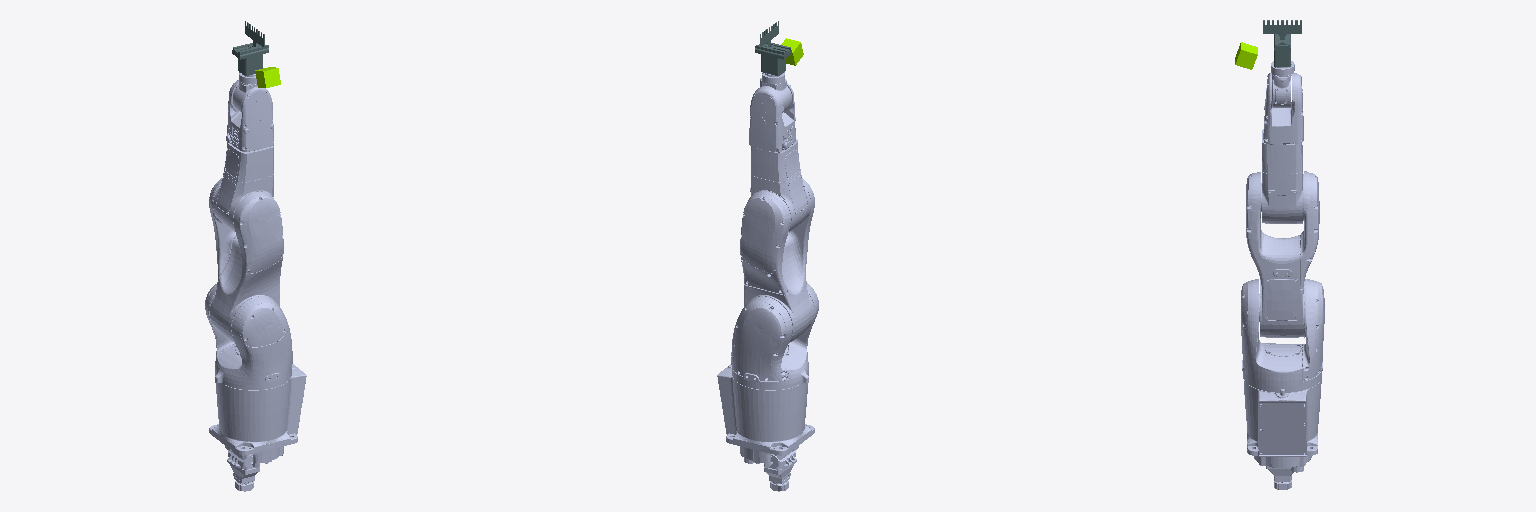
The robot description file, URDF, robot "vs068":
<?xml version="1.0" encoding="UTF-8"?>
<robot name="vs068">
        <material name="white">
                <color rgba="1.0 1.0 1.0 1.0" />
        </material>
        <material name="blue">
                <color rgba="0.0 0.0 1.0 0.7" />
        </material>
        <material name="yellow">
                <color rgba="0.7 1 0 0.3" />
                <ambient>0.5 0.75 0 1</ambient>
                <diffuse>0.7 0.9 0 1</diffuse>
                <specular>0.2 0.2 0.2 64</specular>
                <emissive>0.1 0 0.1 1</emissive>
        </material>
        <material name="denso_white">
                <color rgba="0.792156862745098 0.819607843137255 0.933333333333333 1" />
        </material>
        <material name="gripper_grey">
                <color rgba="0.411 0.498 0.514 1.0" />
        </material>

        <link name="world" />
        <joint name="world_to_base" type="fixed">
                <origin rpy="0 0 0" xyz="0 0 0" />
                <parent link="world" />
                <child link="base_box" />
        </joint>
        <link name="base_box">
        <inertial>
                <origin xyz="0 0 0" rpy="0 0 0" />
                <mass value="10" />
                <inertia ixx="1" ixy="0" ixz="0"
                        iyy="1" iyz="0" izz="1" />
        </inertial>
        <visual>
                <geometry>
                        <mesh filename="meshes/base_box.stl" scale="0.001 0.001 0.001" />
                </geometry>
                <material name="blue" /> 
        </visual>
        <collision>
                <geometry>
                        <mesh filename="meshes/base_box.stl" scale="0.001 0.001 0.001" />
                </geometry>
        </collision>
        </link>
        <joint name="base" type="fixed">
                <origin xyz="0 0 0.156" rpy="0 0 -1.5708" />
                <parent link="base_box" />
                <child link="base_link" />
        </joint>

        <link name="base_link">
        <inertial>
                <origin xyz="-0.000122727607279245 0.0789983817650448 -0.00825987553772271" rpy="0 0 0" />
                <mass value="8.63141697865396" />
                <inertia ixx="0.0762856758006792" ixy="-0.000145476887151232" ixz="-3.43485895969659E-05"
                        iyy="0.0505813655959526" iyz="0.00390971667280202" izz="0.0695322443973483" />
        </inertial>
        <visual>
                <origin xyz="0 0 0" rpy="0 0 0" />
                <geometry>
                        <mesh filename="meshes/base_link.STL" />
                </geometry>
                <material name="denso_white" />
        </visual>
        <collision>
                <origin xyz="0 0 0" rpy="0 0 0" />
                <geometry>
                        <mesh filename="meshes/base_link.STL" />
                </geometry>
        </collision>
        </link>
        <link name="link1">
        <inertial>
                <origin xyz="0.0055746 -0.001764 0.09429" rpy="0 0 0" />
                <mass value="5.5592" />
                <inertia ixx="0.060877" ixy="0.00032656" ixz="-0.0046825" iyy="0.045959" iyz="0.0013857"
                        izz="0.042419" />
        </inertial>
        <visual>
                <origin xyz="0 0 0" rpy="0 0 0" />
                <geometry>
                        <mesh filename="meshes/link1.STL" />
                </geometry>
                <material name="denso_white" />
        </visual>
        <collision>
                <origin xyz="0 0 0" rpy="0 0 0" />
                <geometry>
                        <mesh filename="meshes/link1.STL" />
                </geometry>
        </collision>
        </link>
        <joint name="joint0_1" type="revolute">
                <origin xyz="0 0 0.1975" rpy="0 0 -1.5708" />
                <parent link="base_link" />
                <child link="link1" />
                <axis xyz="0 0 1" />
                <limit lower="-2.9671" upper="2.9671" effort="100000" velocity="6.2134" />
        </joint>
        <link name="link2">
        <inertial>
                <origin xyz="-0.011100059776704 -0.122130805741436 -0.0673277210119841" rpy="0 0 0" />
                <mass value="7.47241921119094" />
                <inertia ixx="0.141800415914062" ixy="-0.0032161354971075" ixz="0.000123151587563144"
                        iyy="0.0348536924803676" iyz="-0.00301516838757327" izz="0.13211646459445" />
        </inertial>
        <visual>
                <origin xyz="0 0 0" rpy="0 0 0" />
                <geometry>
                        <mesh filename="meshes/link2.STL" />
                </geometry>
                <material name="denso_white" />
        </visual>
        <collision>
                <origin xyz="0 0 0" rpy="0 0 0" />
                <geometry>
                        <mesh filename="meshes/link2.STL" />
                </geometry>
        </collision>
        </link>
        <joint name="joint1_2" type="revolute">
                <origin xyz="0.03 0.066 0.1975" rpy="-1.5708 0 0" />
                <parent link="link1" />
                <child link="link2" />
                <axis xyz="0 0 1" />
                <limit lower="-1.74533" upper="2.35619" effort="100000" velocity="5.28835" />
        </joint>
        <link name="link3">
        <inertial>
                <origin xyz="-0.0491224376803171 0.00617030276793995 -0.0613766364747311" rpy="0 0 0" />
                <mass value="3.98629951386676" />
                <inertia ixx="0.0111044632685743" ixy="0.00172841378567076" ixz="0.000292617829389277"
                        iyy="0.0252227763988427" iyz="-2.9724659354712E-05" izz="0.0248859392267326" />
        </inertial>
        <visual>
                <origin xyz="0 0 0" rpy="0 0 0" />
                <geometry>
                        <mesh filename="meshes/link3.STL" />
                </geometry>
                <material name="denso_white" />
        </visual>
        <collision>
                <origin xyz="0 0 0" rpy="0 0 0" />
                <geometry>
                        <mesh filename="meshes/link3.STL" />
                </geometry>
        </collision>
        </link>
        <joint name="joint2_3" type="revolute">
                <origin xyz="0 -0.34 -0.0045" rpy="0 0 1.5707" />
                <parent link="link2" />
                <child link="link3" />
                <axis xyz="0 0 1" />
                <limit lower="-2.0944" upper="2.6529" effort="100000" velocity="6.59734" />
        </joint>
        <link name="link4">
        <inertial>
                <origin xyz="0.00618070367513479 -0.000798886212659555 0.0583205826414259" rpy="0 0 0" />
                <mass value="1.46492735699401" />
                <inertia ixx="0.00499424774512178" ixy="-1.10912544455978E-06" ixz="-0.000400807159125505"
                        iyy="0.00536125112345585" iyz="-1.74738698992761E-05" izz="0.00266834051341128" />
        </inertial>
        <visual>
                <origin xyz="0 0 0" rpy="0 0 0" />
                <geometry>
                        <mesh filename="meshes/link4.STL" />
                </geometry>
                <material name="denso_white" />
        </visual>
        <collision>
                <origin xyz="0 0 0" rpy="0 0 0" />
                <geometry>
                        <mesh filename="meshes/link4.STL" />
                </geometry>
        </collision>
        </link>
        <joint name="joint3_4" type="revolute">
                <origin xyz="-0.197 0.02 -0.0615" rpy="3.1416 1.5708 0" />
                <parent link="link3" />
                <child link="link4" />
                <axis xyz="0 0 1" />
                <limit lower="-4.71239" upper="4.71239" effort="100000" velocity="8.29031" />
        </joint>
        <link name="link5">
        <inertial>
                <origin xyz="-0.0150943182068006 -0.000432785856204654 0.0258772243615742" rpy="0 0 0" />
                <mass value="0.519102318342428" />
                <inertia ixx="0.000377482868071637" ixy="-7.5490296090654E-06" ixz="2.45004206117579E-05"
                        iyy="0.000778804437226065" iyz="1.1497851036214E-06" izz="0.000888284142908022" />
        </inertial>
        <visual>
                <origin xyz="0 0 0" rpy="0 0 0" />
                <geometry>
                        <mesh filename="meshes/link5.STL" />
                </geometry>
                <material name="denso_white" />
        </visual>
        <collision>
                <origin xyz="0 0 0" rpy="0 0 0" />
                <geometry>
                        <mesh filename="meshes/link5.STL" />
                </geometry>
        </collision>
        </link>
        <joint name="joint4_5" type="revolute">
                <origin xyz="-0.0295 0 0.143" rpy="0 1.5708 0" />
                <parent link="link4" />
                <child link="link5" />
                <axis xyz="0 0 1" />
                <limit lower="-2.0944" upper="2.0944" effort="100000" velocity="8.25541" />
        </joint>


        <joint name="joint5_eef" type="revolute">
                <origin xyz="-0.085 -0.0005 0.029" rpy="1.571 3.141 -1.571" />
                <parent link="link5" />
                <child link="end_effector" />
                <axis xyz="0 0 1" />
                <limit lower="-6.283" upper="6.283" effort="100000" velocity="12.566" />
        </joint>

        <link name="end_effector">
        <inertial>
                <origin xyz="5.5447393612675E-18 -4.56574706561055E-18 0.040472762765948" rpy="0 0 0" />
                <mass value="0.229374149544977" />
                <inertia ixx="0.000152792509895407" ixy="-1.32233353659445E-20" ixz="2.99173912945335E-20"
                        iyy="0.000215355282105043" iyz="4.24192387605052E-21" izz="0.000142454408200763" />
        </inertial>
        <visual>
                <origin xyz="0 0 0" rpy="0 0 0" />
                <geometry>
                        <mesh filename="meshes/base_gripper.STL" />
                </geometry>
                <material name="gripper_grey" />
        </visual>
        <collision>
                <origin xyz="0 0 0" rpy="0 0 0" />
                <geometry>
                        <mesh filename="meshes/base_gripper.STL" />
                </geometry>
        </collision>
        </link>

        <link name="end_effector_palm_dummy">
        <inertial>
                <origin xyz="0 0 0" rpy="0 0 0" />
                <mass value="0" />
                <inertia ixx="1" ixy="0" ixz="0"
                        iyy="1" iyz="0" izz="1" />
        </inertial>
        </link>
        <joint name="eef_palm" type="fixed">
                <origin xyz="0 0 0.09" rpy="0 0 1.571" />
                <parent link="end_effector" />
                <child link="end_effector_palm_dummy" />
        </joint>

        <link name="finger_1">
        <inertial>
                <origin xyz="-0.0181840208861592 -8.36291538269603E-08 0.00832378206907532" rpy="0 0 0" />
                <mass value="0.00384042455523011" />
                <inertia ixx="6.63496508527019E-07" ixy="7.76820115278585E-13" ixz="-1.19049632231028E-07"
                        iyy="8.15651137637604E-07" iyz="1.02943506944988E-11" izz="5.34556227349764E-07" />
        </inertial>
        <visual>
                <origin xyz="0 0 0" rpy="0 0 0" />
                <geometry>
                        <mesh filename="meshes/finger_1.STL" />
                </geometry>
                <material name="gripper_grey" />
        </visual>
        <collision>
                <origin xyz="0 0 0" rpy="0 0 0" />
                <geometry>
                        <mesh filename="meshes/finger_1.STL" />
                </geometry>
        </collision>
        </link>
        <joint name="base_finger_1" type="prismatic">
                <origin xyz="0 0 0.072801" rpy="0 0 0" />
                <parent link="end_effector" />
                <child link="finger_1" />
                <axis xyz="-1 0 0" />
                <limit lower="0" upper="0.14" effort="100000" velocity="0.001" />
        </joint>
        <link name="finger_2">
        <inertial>
                <origin xyz="0.0181840208861592 8.36291538299396E-08 0.00832378206907529" rpy="0 0 0" />
                <mass value="0.00384042455523011" />
                <inertia ixx="6.63496508527017E-07" ixy="7.76820115307182E-13" ixz="1.19049632231027E-07"
                        iyy="8.15651137637603E-07" iyz="-1.02943506945105E-11" izz="5.34556227349765E-07" />
        </inertial>
        <visual>
                <origin xyz="0 0 0" rpy="0 0 0" />
                <geometry>
                        <mesh filename="meshes/finger_2.STL" />
                </geometry>
                <material name="gripper_grey" />
        </visual>
        <collision>
                <origin xyz="0 0 0" rpy="0 0 0" />
                <geometry>
                        <mesh filename="meshes/finger_2.STL" />
                </geometry>
        </collision>
        </link>
        <joint name="base_finger_2" type="prismatic">
                <origin xyz="0 0 0.072801" rpy="0 0 3.14159265359" />
                <parent link="end_effector" />
                <child link="finger_2" />
                <axis xyz="-1 0 0" />
                <limit lower="0" upper="0.14" effort="100000" velocity="0.001" />
                <mimic joint="base_finger_1" multiplier="1" offset="0" />
        </joint>

        <joint name="camera_joint" type="fixed">
                <origin xyz="0 0.1 0.02" rpy="0 -1.9 1.5707" />
                <parent link="end_effector" />
                <child link="camera_link" />
        </joint>
        
        <link name="camera_link">
                <origin xyz="0 0 0" rpy="0 0 0" />
                
                <visual name="visual_cam">
                <origin xyz="0 0 0" rpy="0 0 0" />
                <geometry>
                        <box size="0.05 0.05 0.05" />
                </geometry>
                <material name="yellow" />
                </visual>

                <inertial>
                        <origin xyz="0 0 0" rpy="0 0 0" />
                        <mass value="0" />
                        <inertia ixx="1" ixy="0" ixz="0"
                                iyy="1" iyz="0" izz="1" />
                </inertial>
        </link>cam


        <transmission name="trans_joint0_1">
                <type>transmission_interface/SimpleTransmission</type>
                <joint name="joint0_1">
                        <hardwareInterface>hardware_interface/EffortJointInterface</hardwareInterface>
                </joint>
                <actuator name="joint0_1_motor">
                        <hardwareInterface>hardware_interface/EffortJointInterface</hardwareInterface>
                        <mechanicalReduction>1</mechanicalReduction>
                </actuator>
        </transmission>
        <transmission name="trans_joint1_2">
                <type>transmission_interface/SimpleTransmission</type>
                <joint name="joint1_2">
                        <hardwareInterface>hardware_interface/EffortJointInterface</hardwareInterface>
                </joint>
                <actuator name="joint1_2_motor">
                        <hardwareInterface>hardware_interface/EffortJointInterface</hardwareInterface>
                        <mechanicalReduction>1</mechanicalReduction>
                </actuator>
        </transmission>
        <transmission name="trans_joint2_3">
                <type>transmission_interface/SimpleTransmission</type>
                <joint name="joint2_3">
                        <hardwareInterface>hardware_interface/EffortJointInterface</hardwareInterface>
                </joint>
                <actuator name="joint2_3_motor">
                        <hardwareInterface>hardware_interface/EffortJointInterface</hardwareInterface>
                        <mechanicalReduction>1</mechanicalReduction>
                </actuator>
        </transmission>
        <transmission name="trans_joint3_4">
                <type>transmission_interface/SimpleTransmission</type>
                <joint name="joint3_4">
                        <hardwareInterface>hardware_interface/EffortJointInterface</hardwareInterface>
                </joint>
                <actuator name="joint3_4_motor">
                        <hardwareInterface>hardware_interface/EffortJointInterface</hardwareInterface>
                        <mechanicalReduction>1</mechanicalReduction>
                </actuator>
        </transmission>
        <transmission name="trans_joint4_5">
                <type>transmission_interface/SimpleTransmission</type>
                <joint name="joint4_5">
                        <hardwareInterface>hardware_interface/EffortJointInterface</hardwareInterface>
                </joint>
                <actuator name="joint4_5_motor">
                        <hardwareInterface>hardware_interface/EffortJointInterface</hardwareInterface>
                        <mechanicalReduction>1</mechanicalReduction>
                </actuator>
        </transmission>
        <transmission name="trans_joint5_eef">
                <type>transmission_interface/SimpleTransmission</type>
                <joint name="joint5_eef">
                        <hardwareInterface>hardware_interface/EffortJointInterface</hardwareInterface>
                </joint>
                <actuator name="joint5_eef_motor">
                        <hardwareInterface>hardware_interface/EffortJointInterface</hardwareInterface>
                        <mechanicalReduction>1</mechanicalReduction>
                </actuator>
        </transmission>
        <transmission name="trans_eef_finger1">
                <type>transmission_interface/SimpleTransmission</type>
                <joint name="base_finger_1">
                        <hardwareInterface>hardware_interface/EffortJointInterface</hardwareInterface>
                </joint>
                <actuator name="base_finger_1_motor">
                        <hardwareInterface>hardware_interface/EffortJointInterface</hardwareInterface>
                        <mechanicalReduction>0.5</mechanicalReduction>
                </actuator>
        </transmission>
        <transmission name="trans_eef_finger2">
                <type>transmission_interface/SimpleTransmission</type>
                <joint name="base_finger_2">
                        <hardwareInterface>hardware_interface/EffortJointInterface</hardwareInterface>
                </joint>
                <actuator name="base_finger_2_motor">
                        <hardwareInterface>hardware_interface/EffortJointInterface</hardwareInterface>
                        <mechanicalReduction>0.5</mechanicalReduction>
                </actuator>
        </transmission>
</robot>

--- Render facts (derived) ---
The picture shows the robot from 3 angles, left to right: view 1: azimuth 30°, elevation 25°; view 2: azimuth 150°, elevation 25°; view 3: azimuth 270°, elevation 25°; orthographic projection.
Robot: vs068 — 13 links, 12 joints (6 revolute, 2 prismatic, 4 fixed); root link world; default pose: all joints at 0.
Visible links, largest first — view 1: link2, base_link, link1, link3, link4, end_effector; view 2: link2, base_link, link1, link3, link4, end_effector, link5; view 3: link2, base_link, link1, link3, link4, link5, finger_1.
Link boxes in pixels (x1,y1,x2,y2): link2: (209,178,283,342); base_link: (209,364,306,491); link1: (205,284,292,389); link3: (212,143,273,231); link4: (226,80,273,151); end_effector: (232,43,268,75); link2: (740,178,814,342); base_link: (717,364,814,491); link1: (731,283,818,389); link3: (750,139,810,231); link4: (749,83,795,152); end_effector: (755,43,791,75); link5: (760,72,791,111); link2: (1246,171,1319,337); base_link: (1243,378,1321,489); link1: (1241,279,1324,392); link3: (1261,129,1303,223); link4: (1263,73,1303,144); link5: (1271,61,1294,107); finger_1: (1263,20,1301,44).
Size in the robot's own frame: 0.267 by 0.2497 by 1.45 metres.
9 mesh visuals loaded from 10 distinct referenced files (9 binary STL); not drawn: 1 (reference not matched to a file when rendering).